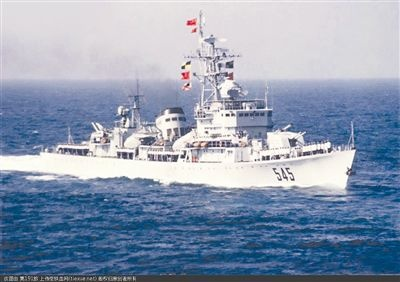warship: (42, 47, 361, 189)
